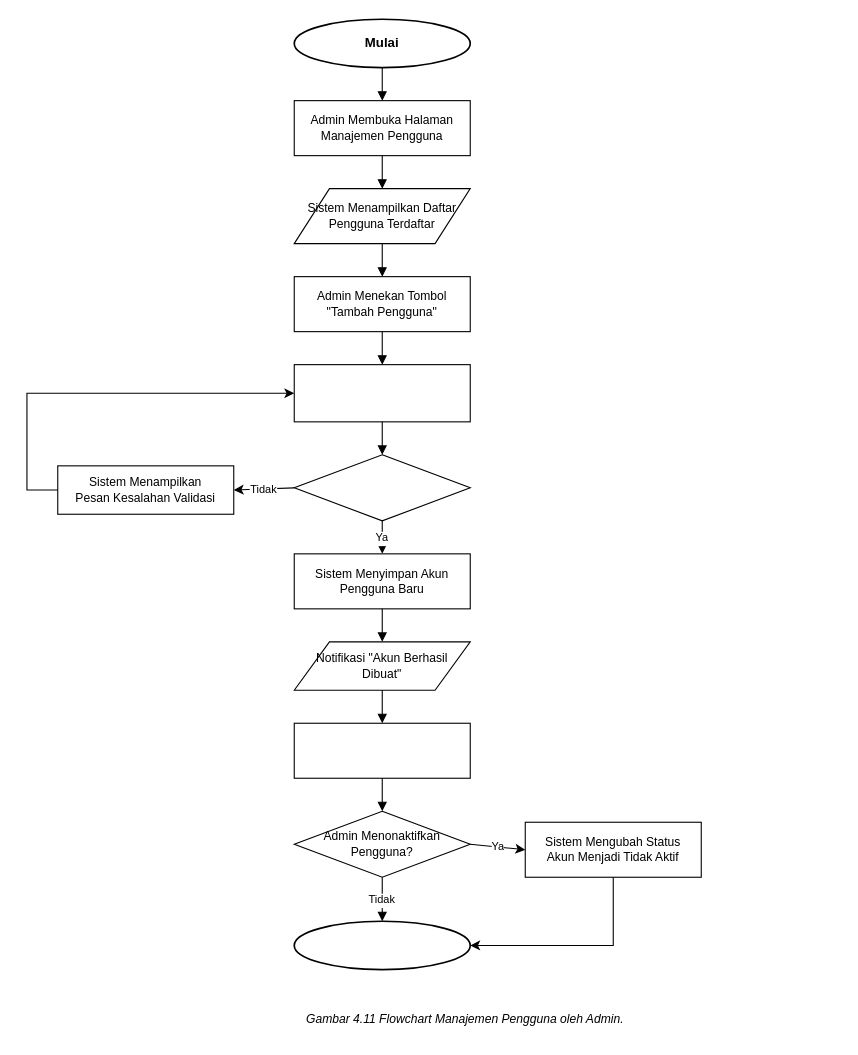
Image size: 858x1055. Some labels were removed from this diagram. The shapes that lost their labels are listed below. From the top down, each one's box as (x1, y1, x2, y2) in pixels, then its label:
(293, 364, 470, 422): Mengisi Formulir Pengguna Baru (Nama, Email, Role, Password)
(293, 454, 470, 521): Data Pengguna Valid?
(293, 722, 470, 778): Pengguna Dapat Login Sesuai Role yang Ditetapkan
(293, 920, 471, 970): Selesai
